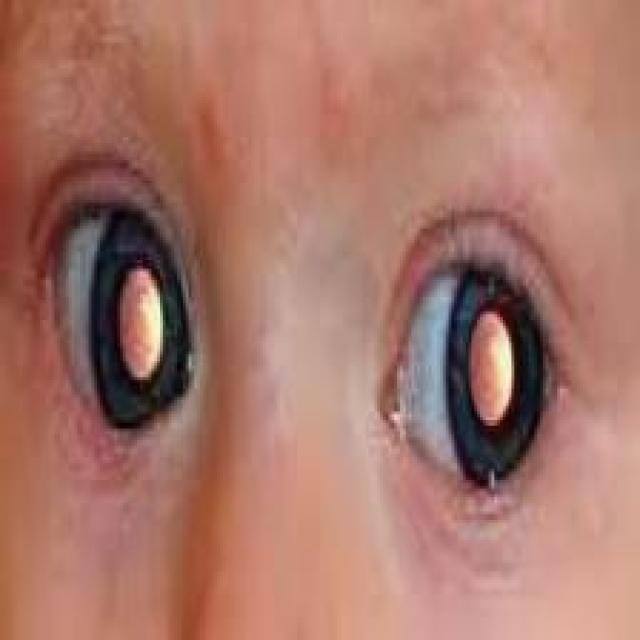reflexo-alterado: (346, 210, 567, 523), (36, 162, 204, 448)
